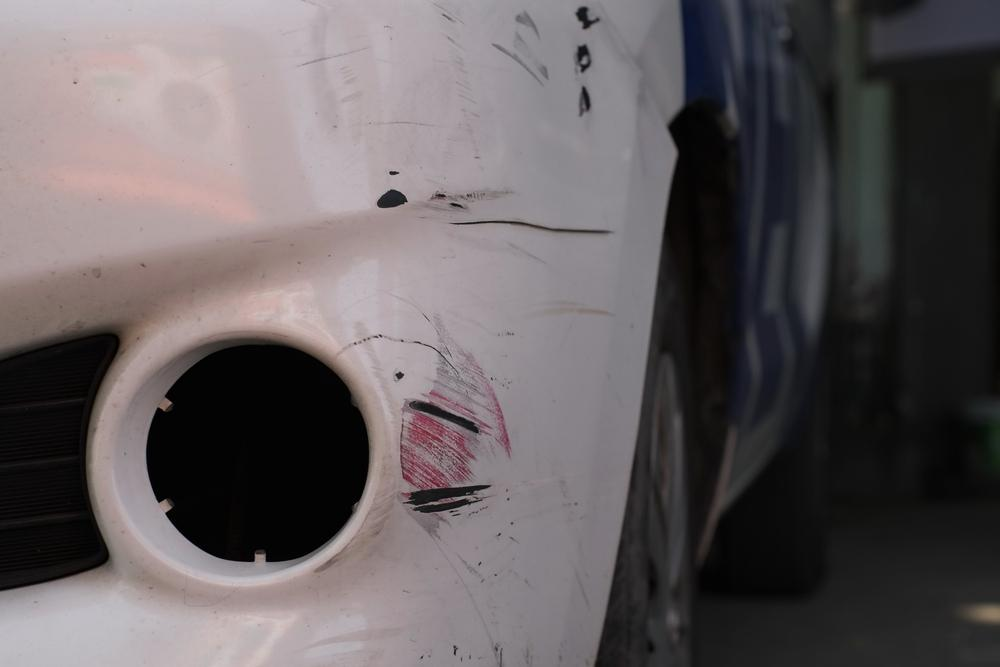scratch: (317, 0, 628, 273), (389, 319, 527, 542)
